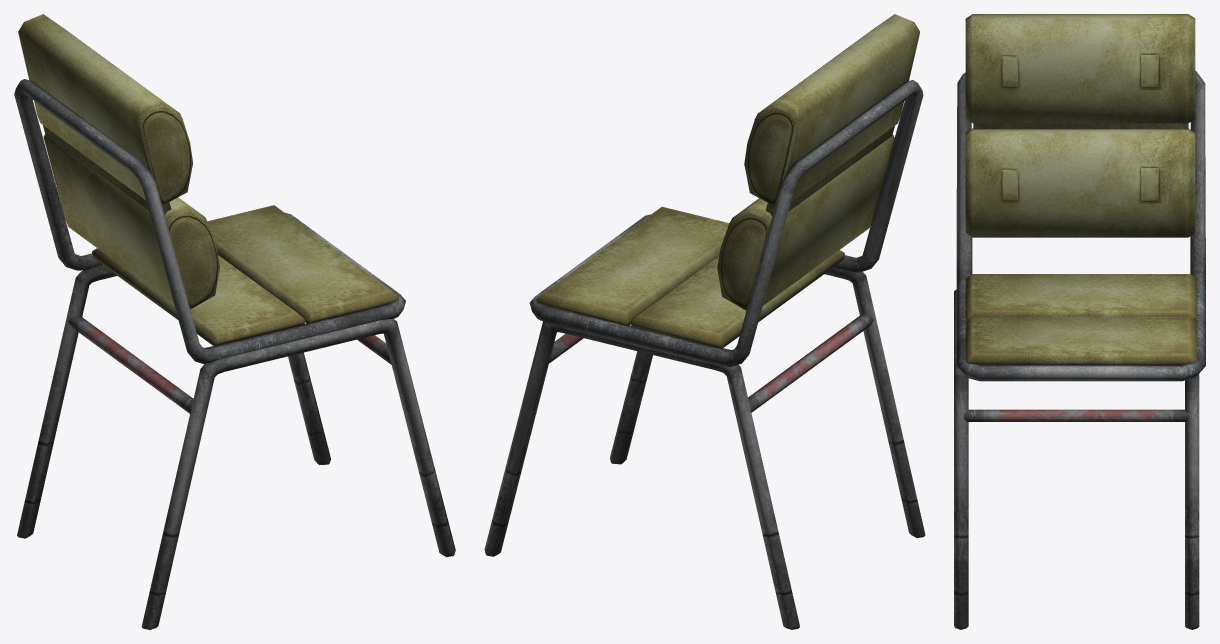
File: chair_community_room.dae
3 renders of one model, left to right at view 1: azimuth 30°, elevation 25°; view 2: azimuth 150°, elevation 25°; view 3: azimuth 270°, elevation 25°, orthographic. The views are drawn at different scales.
Parts seen in each view (by area): view 1: chair_community_room; view 2: chair_community_room; view 3: chair_community_room.
Part boxes in pixels (<box>): chair_community_room: <box>14,14,455,629</box>; chair_community_room: <box>484,14,925,629</box>; chair_community_room: <box>954,14,1205,629</box>.
Size of the model in its own units: 0.8263 by 1.3 by 0.6172.
